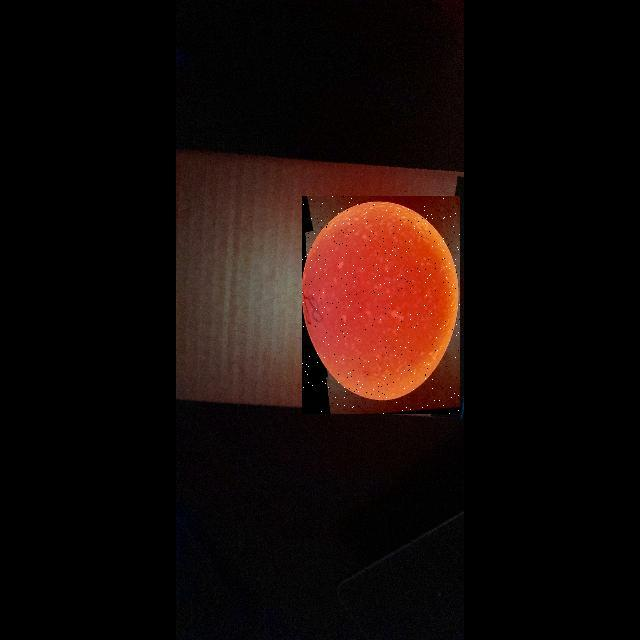Fertile: (302, 196, 460, 414)
